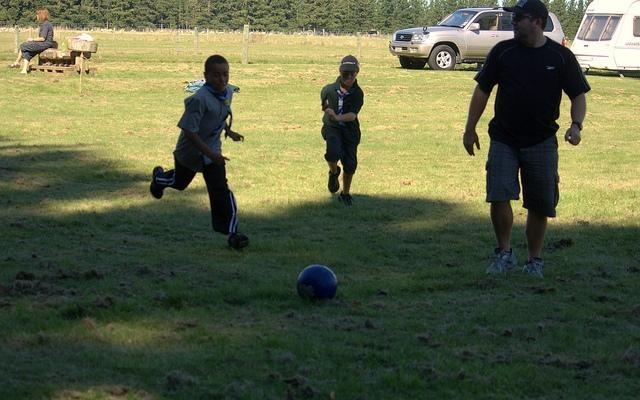truck: (388, 5, 568, 71)
